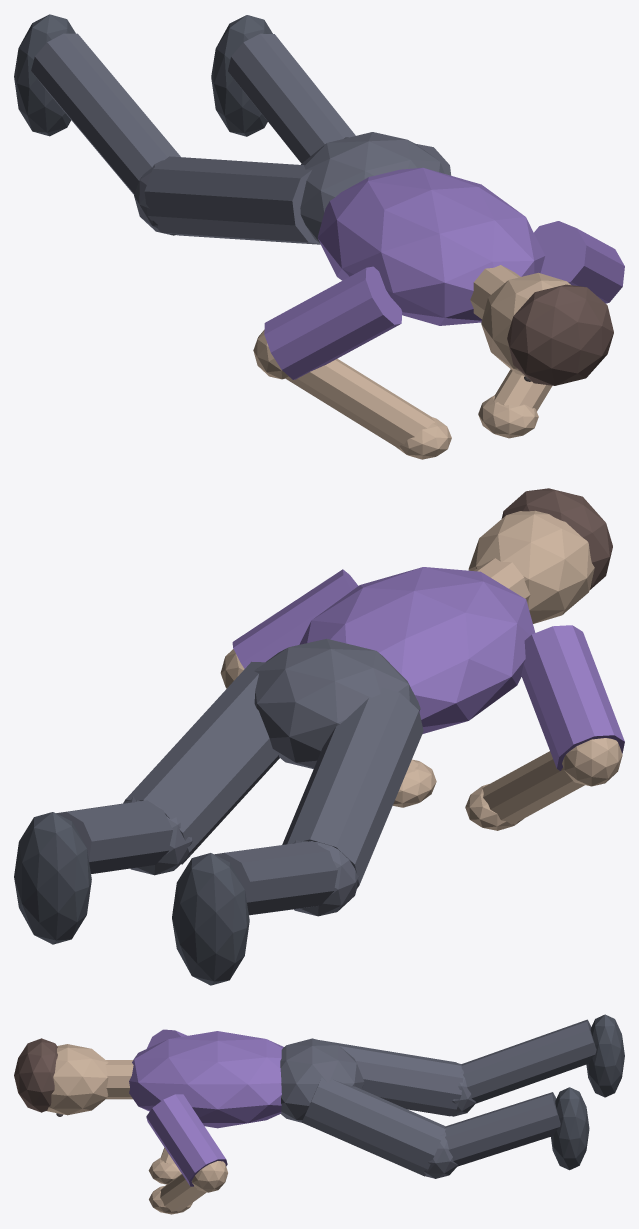
3 renders of one model, top to bottom at view 1: azimuth 30°, elevation 25°; view 2: azimuth 150°, elevation 25°; view 3: azimuth 270°, elevation 25°, orthographic. The views are drawn at different scales.
Parts seen in each view (by area): view 1: world; view 2: world; view 3: world.
Boxes of the visible parts, x1,y1,x2,y2 form: world: [14, 14, 624, 459]; world: [14, 488, 624, 985]; world: [14, 1014, 624, 1214].
Size of the model in its own units: 0.93 by 0.565 by 2.
